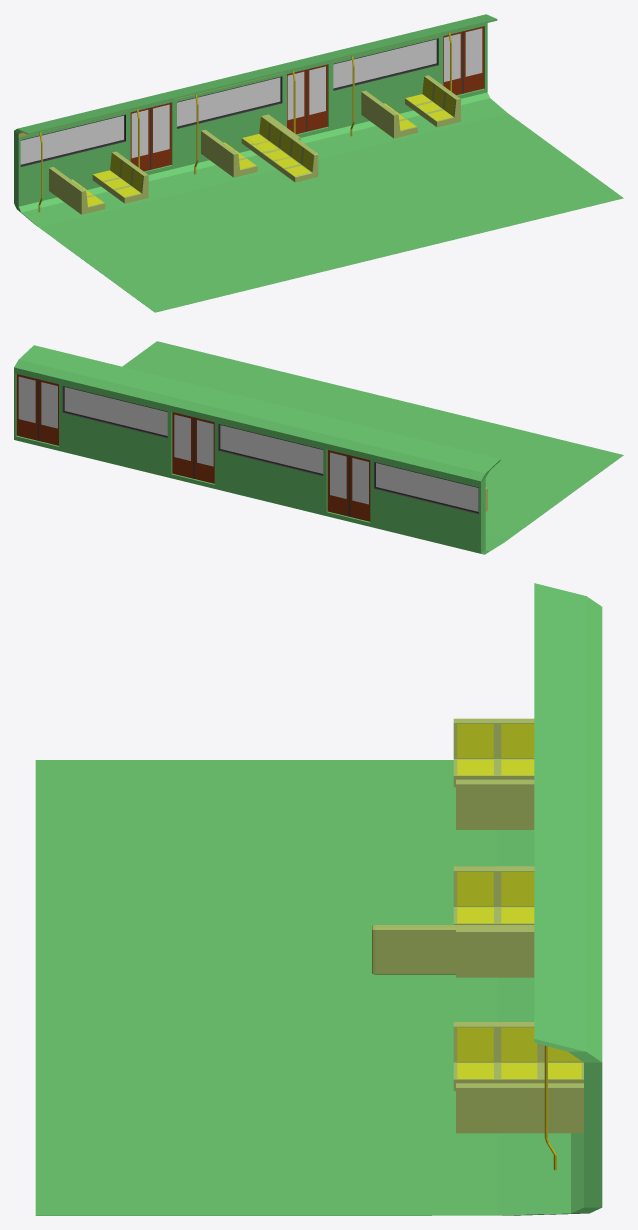
File: otrometro 1.fbx
3 views of the same model, one above another, from view 1: azimuth 30°, elevation 25°; view 2: azimuth 150°, elevation 25°; view 3: azimuth 270°, elevation 25° (orthographic). The views are drawn at different scales.
Parts seen in each view (by area): view 1: Cube.002, Cube.001, Cube.020, Cube.005, Cube.006, Cube.008, Cube.009, Cube.003, Cube.007, Cube.004; view 2: Cube.002, Cube.020, Cube.001; view 3: Cube.001, Cube.002, Cube.020, Cube.009, Cube.008, Cube.007, Cube.003, Cube.005, Cube.006, Cube.004.
Boxes of the visible parts, bbox=[...] form: Cube.002: bbox=[14, 90, 310, 312]; Cube.001: bbox=[330, 14, 623, 236]; Cube.020: bbox=[174, 52, 467, 274]; Cube.005: bbox=[241, 115, 318, 182]; Cube.006: bbox=[92, 151, 148, 203]; Cube.008: bbox=[405, 75, 460, 127]; Cube.009: bbox=[361, 90, 417, 138]; Cube.003: bbox=[201, 129, 257, 177]; Cube.007: bbox=[49, 167, 105, 214]; Cube.004: bbox=[245, 114, 300, 160]; Cube.002: bbox=[325, 417, 623, 554]; Cube.020: bbox=[169, 379, 467, 515]; Cube.001: bbox=[14, 341, 312, 477]; Cube.001: bbox=[35, 887, 602, 1215]; Cube.002: bbox=[35, 583, 602, 911]; Cube.020: bbox=[35, 735, 602, 1063]; Cube.009: bbox=[453, 1022, 583, 1090]; Cube.008: bbox=[456, 1083, 583, 1133]; Cube.007: bbox=[453, 718, 534, 787]; Cube.003: bbox=[453, 866, 534, 924]; Cube.005: bbox=[372, 925, 534, 974]; Cube.006: bbox=[456, 779, 534, 829]; Cube.004: bbox=[456, 927, 534, 977].
Bounding box in the file's own units: 3505 × 625 × 1831.
